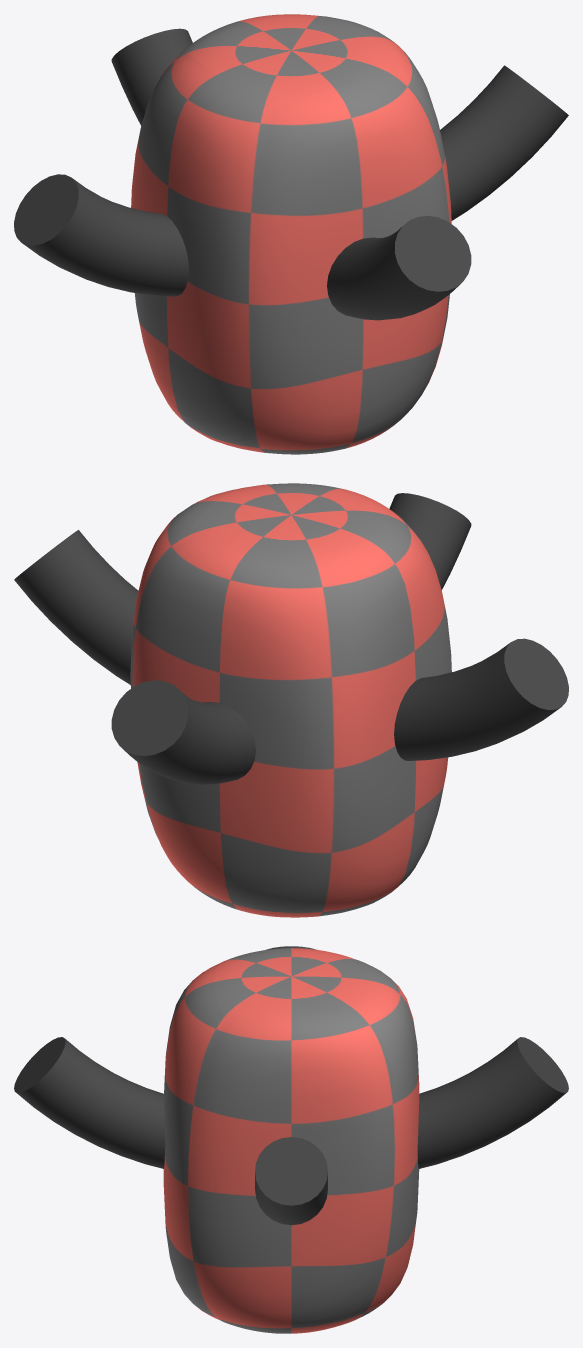
The model's file is Body(Oblong)+Colour(More_Red)+Arms(Bent_Up)+Pattern(Checkered).fbx.
3 views of the same model, one above another, from view 1: azimuth 30°, elevation 25°; view 2: azimuth 150°, elevation 25°; view 3: azimuth 270°, elevation 25° (orthographic). The views are drawn at different scales.
Visible parts, largest first — view 1: Body(Oblong)+Colour(More_Red)+Arms(Bent_Up)+Pattern(Checkere (×5); view 2: Body(Oblong)+Colour(More_Red)+Arms(Bent_Up)+Pattern(Checkere (×5); view 3: Body(Oblong)+Colour(More_Red)+Arms(Bent_Up)+Pattern(Checkere (×4).
Boxes of the visible parts, left/top/right/bottom form: Body(Oblong)+Colour(More_Red)+Arms(Bent_Up)+Pattern(Checkere (×5): left=14, top=14, right=568, bottom=454; Body(Oblong)+Colour(More_Red)+Arms(Bent_Up)+Pattern(Checkere (×5): left=14, top=483, right=568, bottom=917; Body(Oblong)+Colour(More_Red)+Arms(Bent_Up)+Pattern(Checkere (×4): left=14, top=948, right=568, bottom=1333.
Size of the model in its own units: 60.67 by 40 by 60.67.
Materials: 2 (2 with a texture image).
